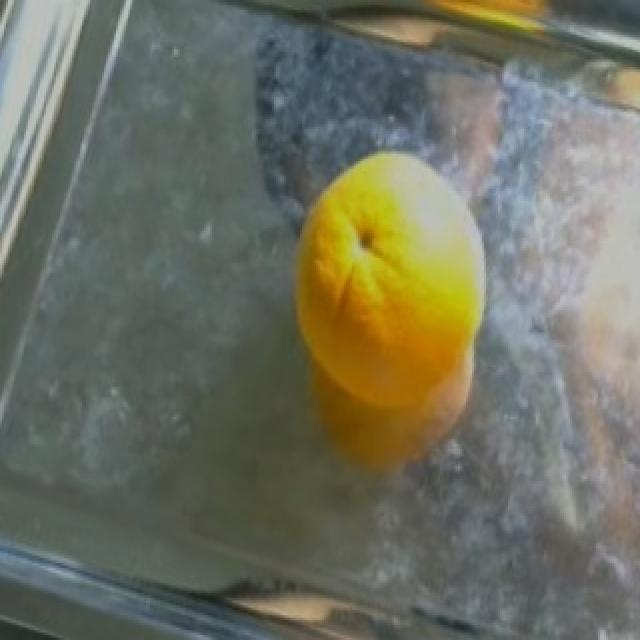Fruit: (272, 132, 502, 462), (368, 0, 594, 60)
